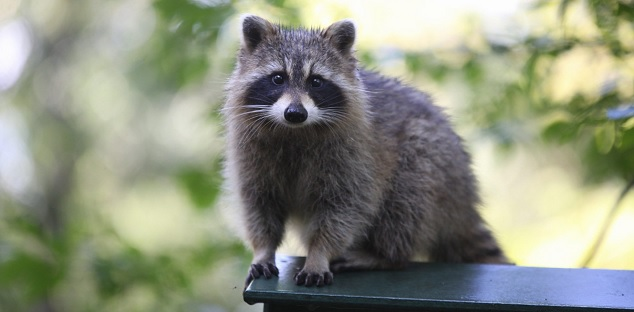raccoon: (216, 5, 515, 297)
